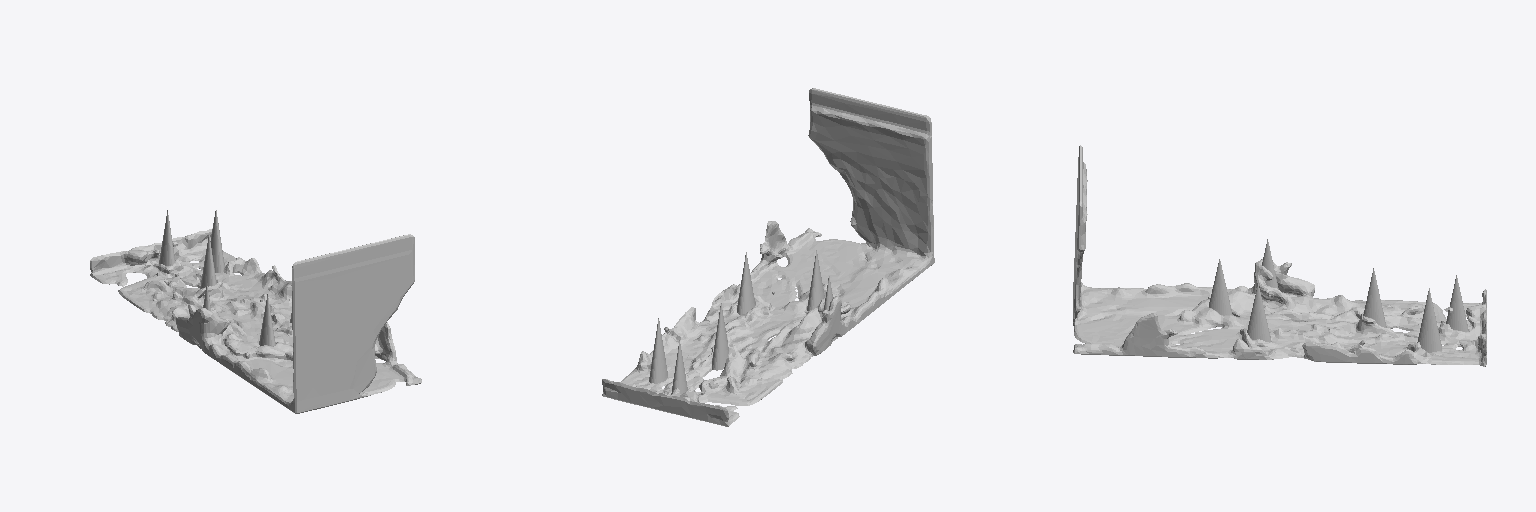
3 views of the same model, side by side, from view 1: azimuth 30°, elevation 25°; view 2: azimuth 150°, elevation 25°; view 3: azimuth 270°, elevation 25° (orthographic).
Visible parts, largest first — view 1: Liquid_Domain; view 2: Liquid_Domain, 円錐, 円錐.004, 円錐.002, 円錐.001; view 3: Liquid_Domain, 円錐, 円錐.002, 円錐.001, 円錐.005, 円錐.004.
Part boxes in pixels (x1,y1,x2,y2): Liquid_Domain: (90,228,421,413); Liquid_Domain: (602,88,934,426); 円錐: (649,318,667,383); 円錐.004: (712,303,728,370); 円錐.002: (737,252,754,314); 円錐.001: (807,250,824,310); Liquid_Domain: (1073,145,1486,366); 円錐: (1417,288,1441,352); 円錐.002: (1247,284,1271,341); 円錐.001: (1209,259,1232,314); 円錐.005: (1446,275,1468,331); 円錐.004: (1363,268,1386,327).
Size of the model in its own units: 129 by 157 by 361.